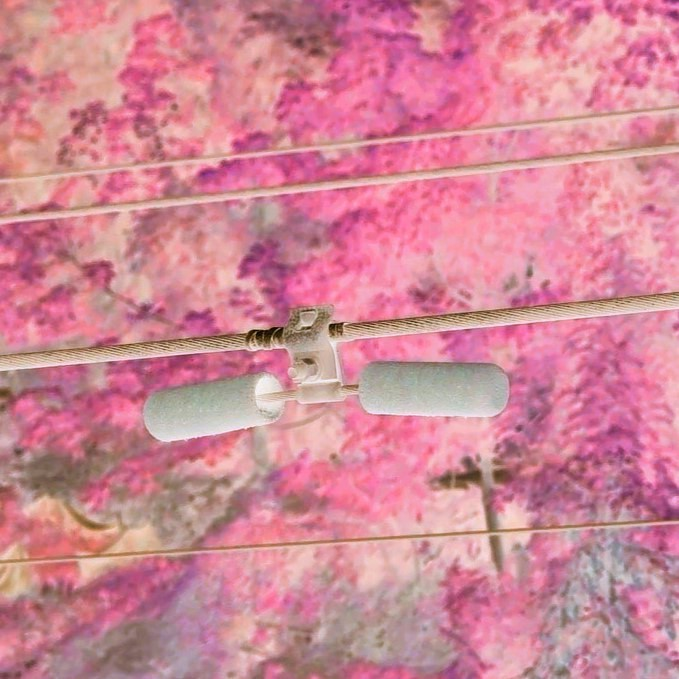Shockproof hammer: (134, 297, 515, 443)
